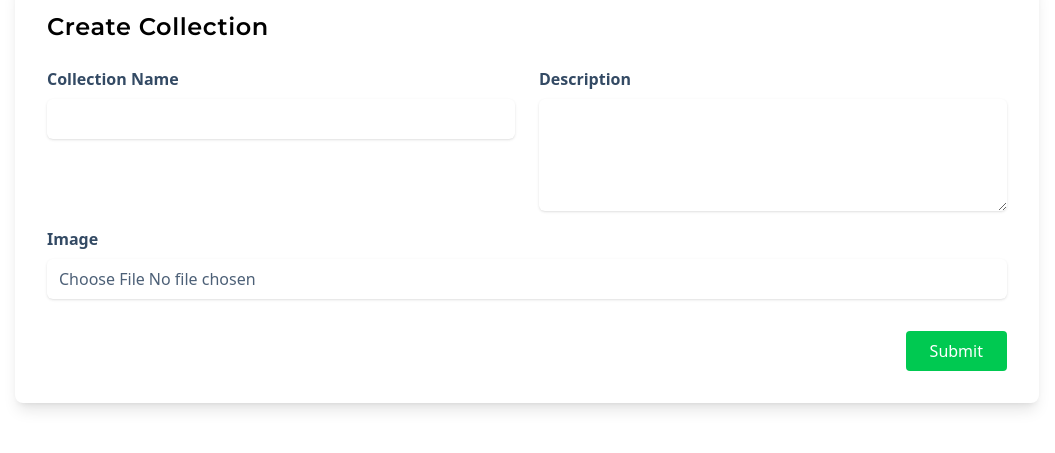
Scenario: CollectionForm Component › shows validation errors for required fields
The width and height of the screenshot is (1055, 453).
Note: Submit form without filling fields
Click the button "Submit".
click(956, 351)  # box [906,331,1007,371]
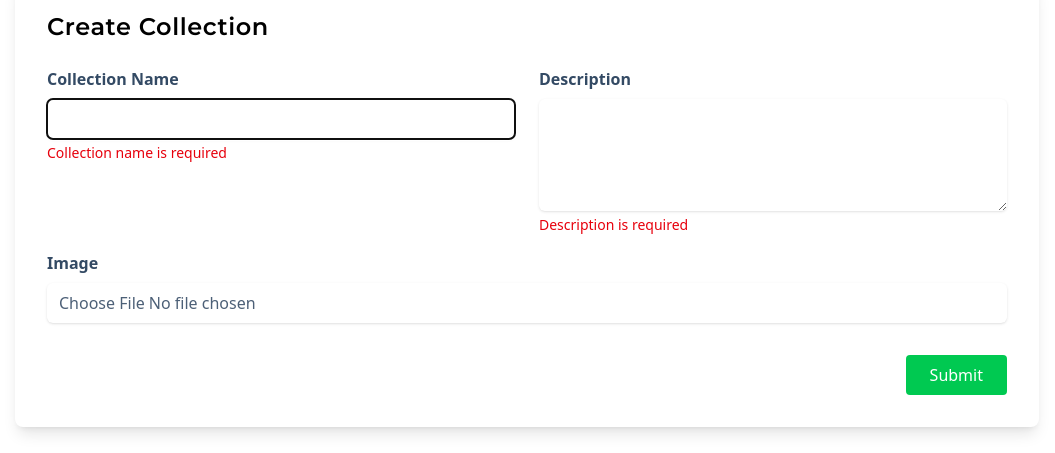
Expected: the text "Collection name is required" is shown, [47,143,227,162]
Expected: the text "Description is required" is shown, [539,215,688,234]
